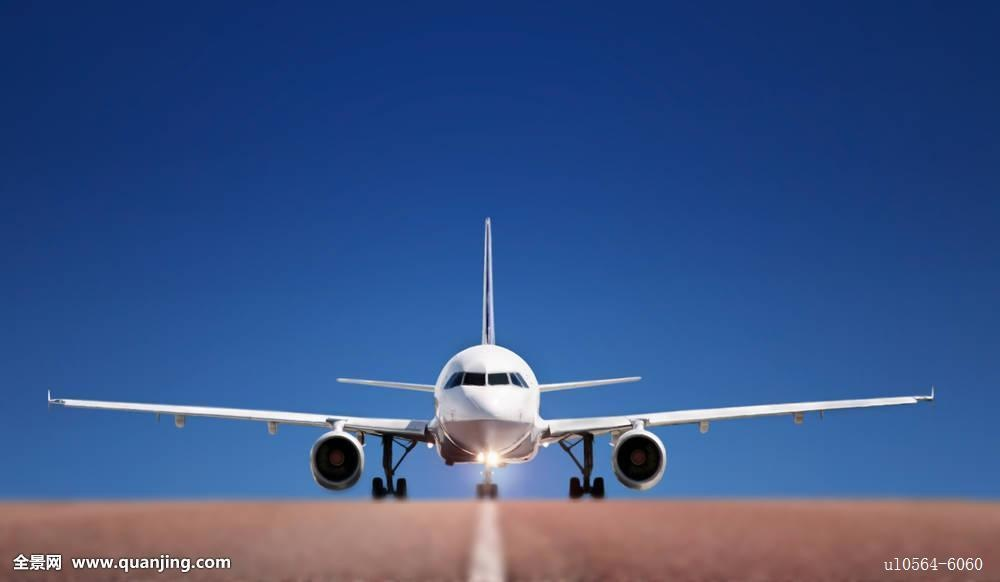airplane: (38, 221, 937, 495)
